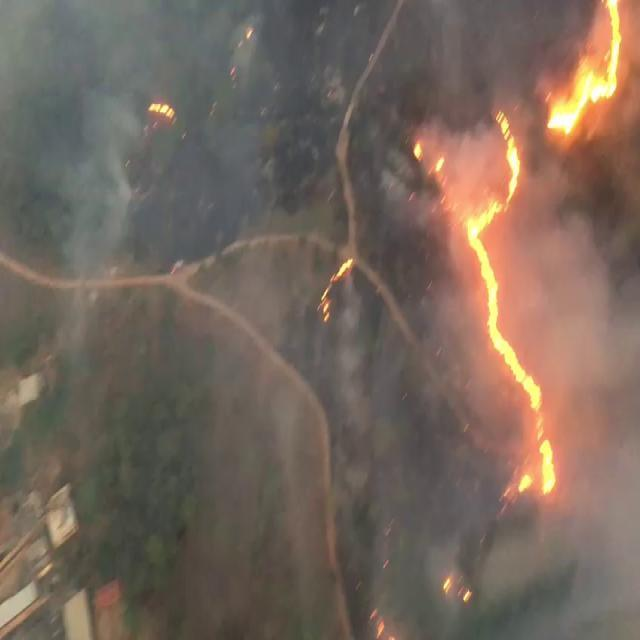Fire: (546, 58, 620, 137), (486, 262, 502, 346), (538, 433, 556, 497), (468, 205, 494, 245), (524, 370, 542, 410)
